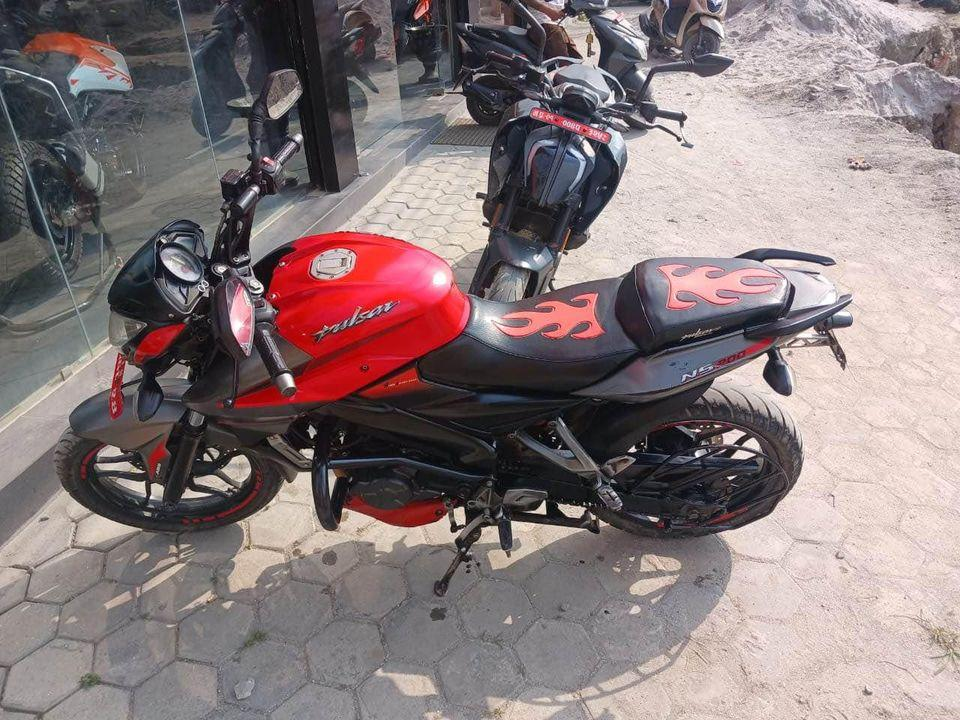bike: (53, 128, 869, 597)
